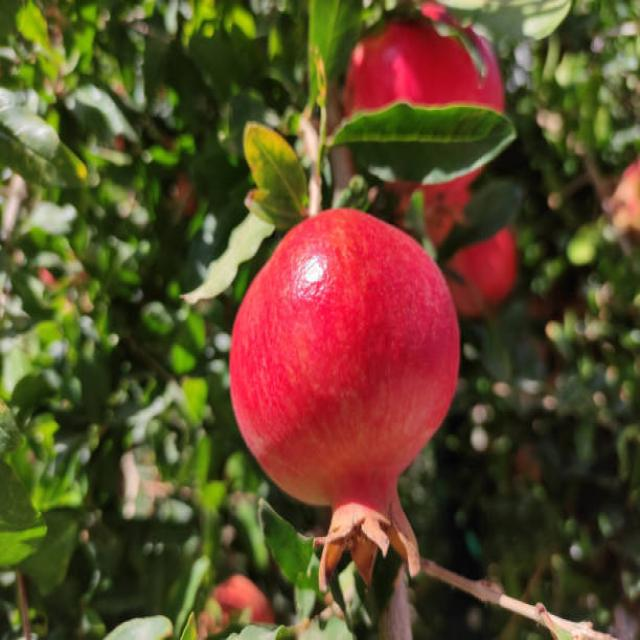Ripe: (223, 208, 462, 576)
